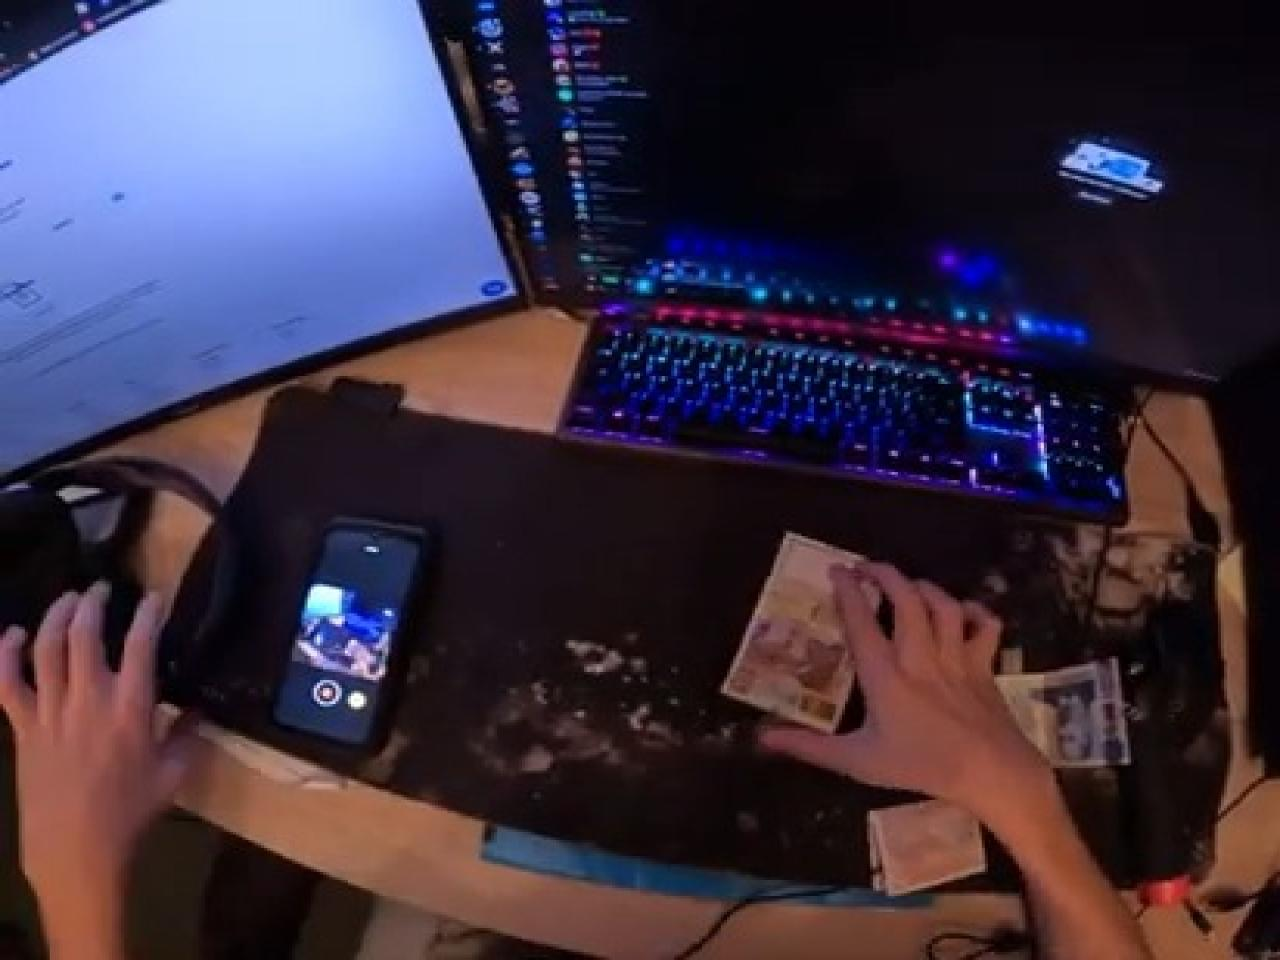50leva: (721, 533, 867, 736)
